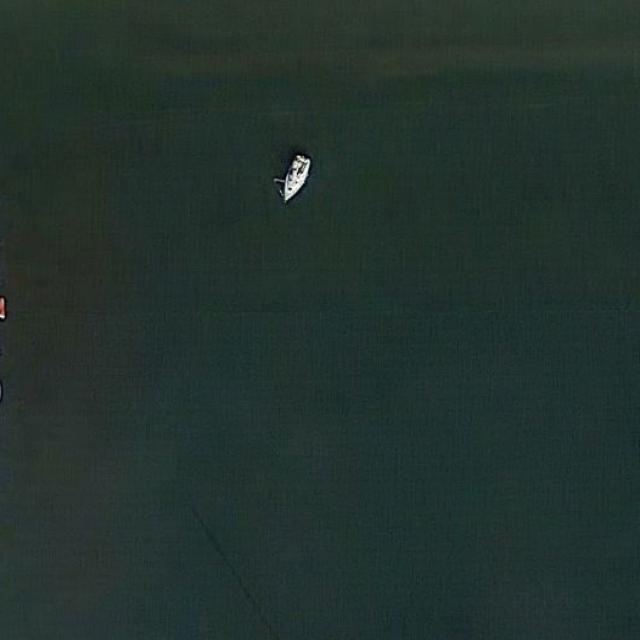ship: (281, 152, 313, 204)
